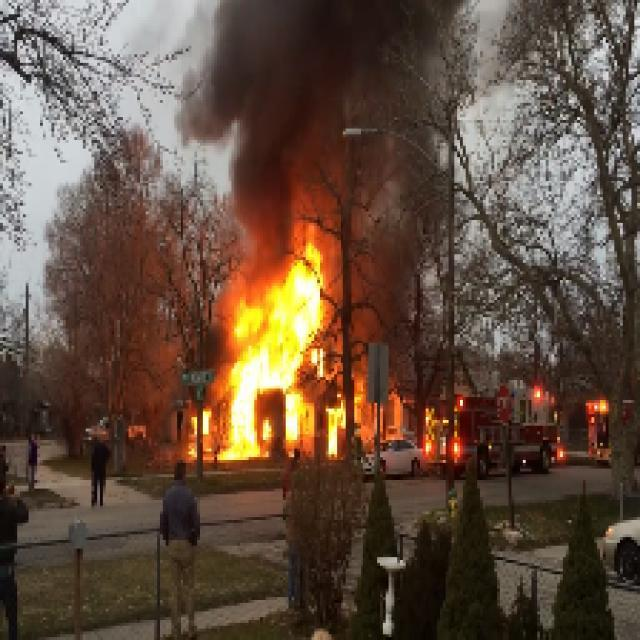Fire: (240, 250, 317, 450)
Smoke: (234, 10, 376, 238)
